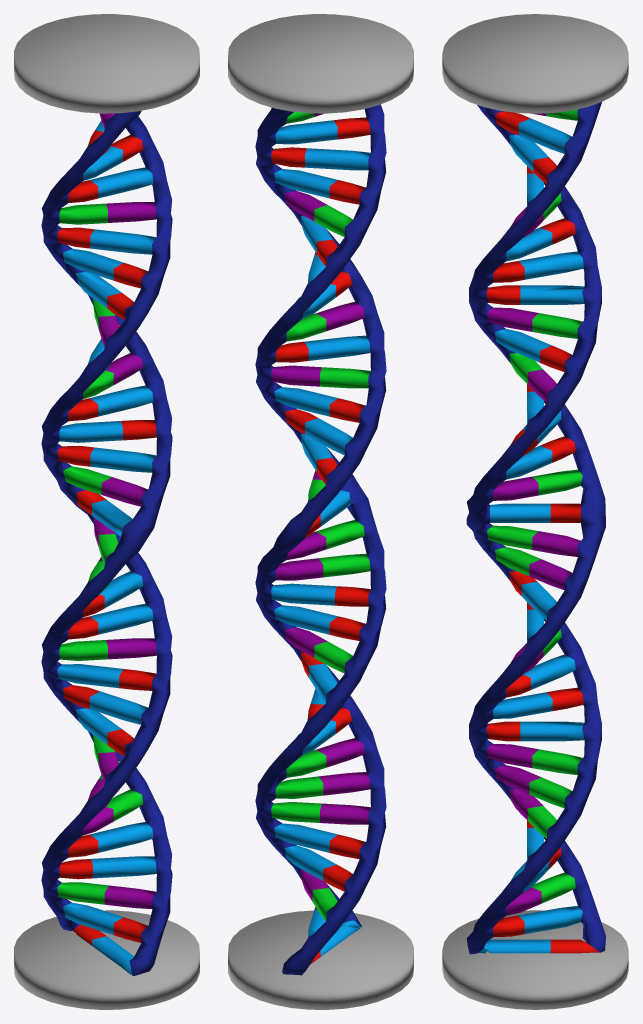
File: DNA.fbx
The picture shows the model from 3 angles, left to right: view 1: azimuth 30°, elevation 25°; view 2: azimuth 150°, elevation 25°; view 3: azimuth 270°, elevation 25°; orthographic projection.
Visible parts, largest first — view 1: DNA, Cylinder.001, Cylinder; view 2: DNA, Cylinder.001, Cylinder; view 3: DNA, Cylinder.001, Cylinder.
Boxes of the visible parts, left/top/right/bottom form: DNA: left=41, top=110, right=172, bottom=975; Cylinder.001: left=14, top=14, right=199, bottom=113; Cylinder: left=14, top=910, right=199, bottom=1009; DNA: left=255, top=104, right=386, bottom=975; Cylinder.001: left=228, top=14, right=413, bottom=113; Cylinder: left=228, top=910, right=413, bottom=1009; DNA: left=466, top=102, right=605, bottom=954; Cylinder.001: left=442, top=14, right=628, bottom=113; Cylinder: left=442, top=910, right=628, bottom=1009.
Bounding box in the file's own units: 400 × 2175 × 400.
